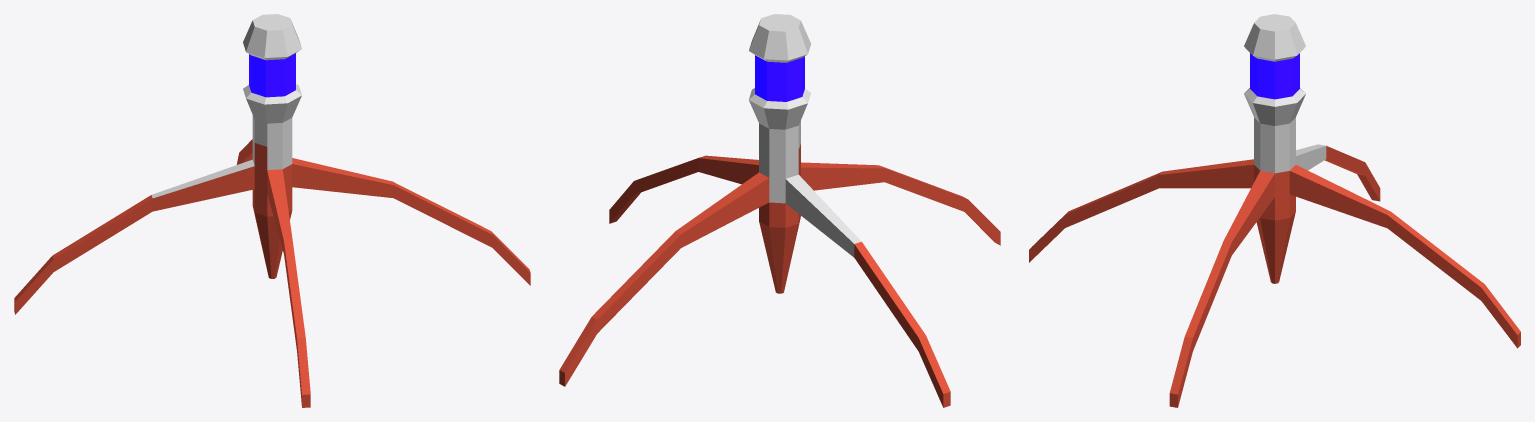
Rendered from Turret-Needle.fbx.
The picture shows the model from 3 angles, left to right: view 1: azimuth 30°, elevation 25°; view 2: azimuth 150°, elevation 25°; view 3: azimuth 270°, elevation 25°; orthographic projection. The views are drawn at different scales.
Visible parts, largest first — view 1: Cylinder; view 2: Cylinder; view 3: Cylinder.
Part boxes in pixels (bbox=[...]): Cylinder: bbox=[14, 14, 530, 407]; Cylinder: bbox=[559, 14, 1000, 407]; Cylinder: bbox=[1029, 14, 1520, 407].
Size of the model in its own units: 943 by 595 by 943.
